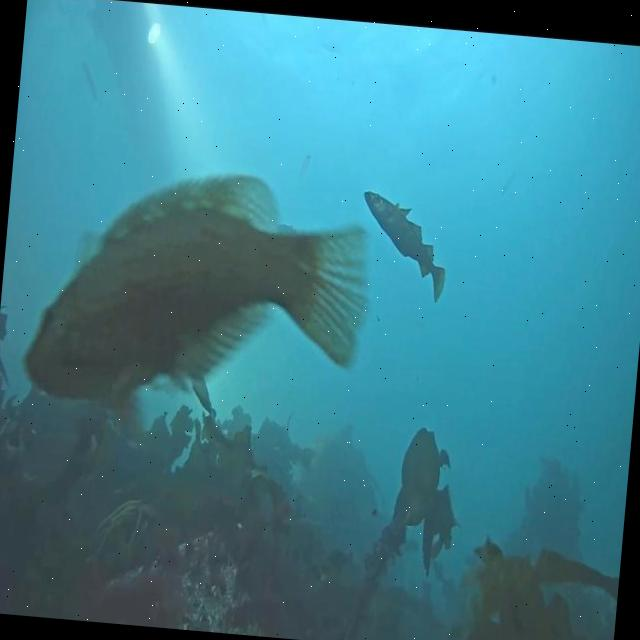fish: (20, 154, 376, 433), (354, 188, 452, 300), (79, 61, 100, 100), (296, 152, 310, 182)
